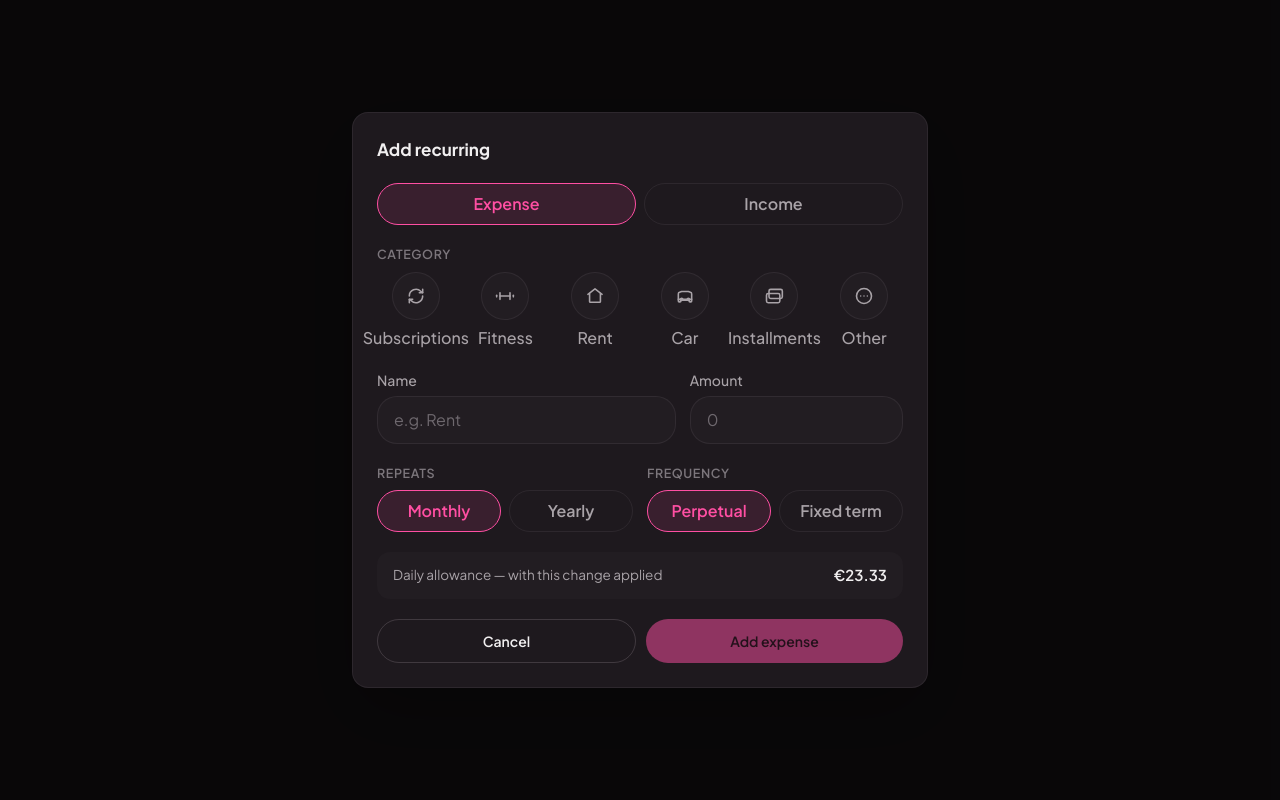
Test: AddRecurringModal › disables Confirm until a name and a positive amount are both set
The width and height of the screenshot is (1280, 800).
Expected: the button "Add expense" is disabled, [646,619,903,663]
Type "Rent" into the field labelled "Name".
click(526, 420); type("Rent")  # box [377,396,676,444]
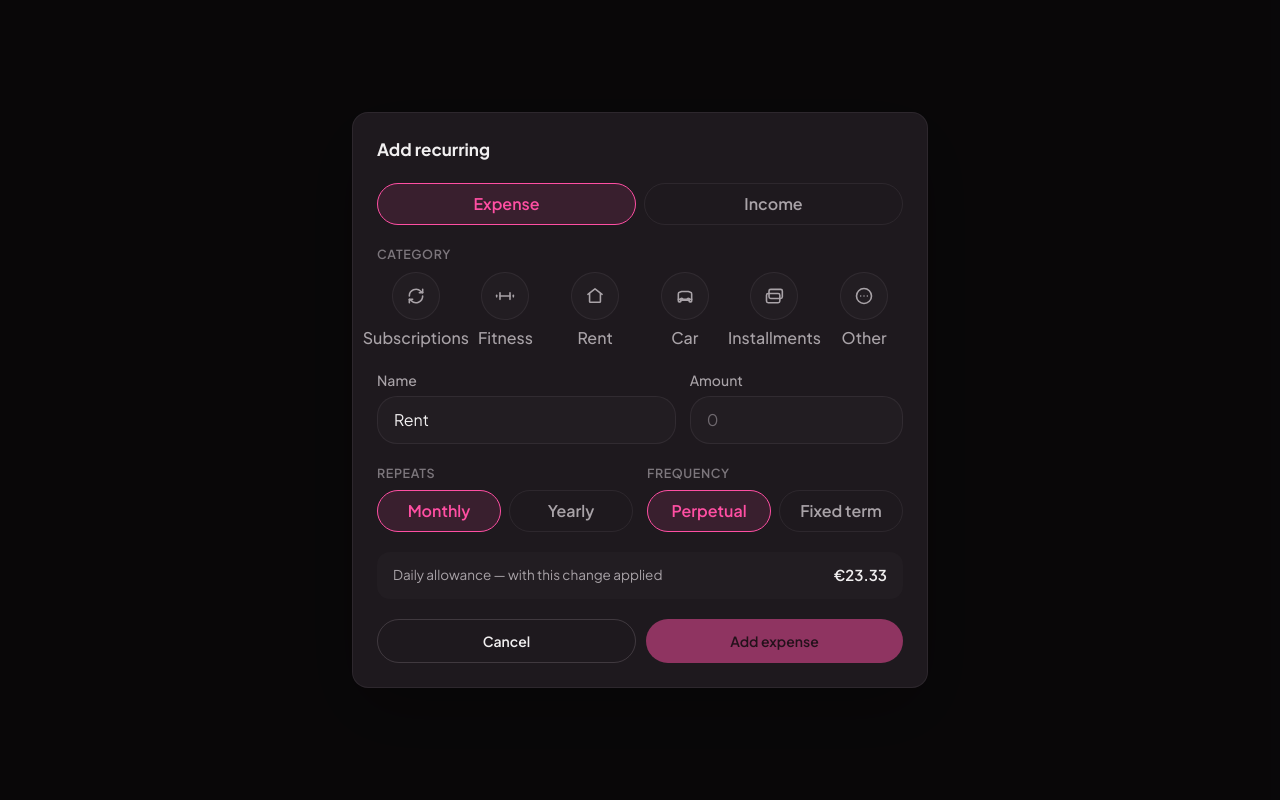
Expected: the button "Add expense" is disabled, [646,619,903,663]
Type "950" into the field labelled "Amount".
click(796, 420); type("950")  # box [690,396,903,444]
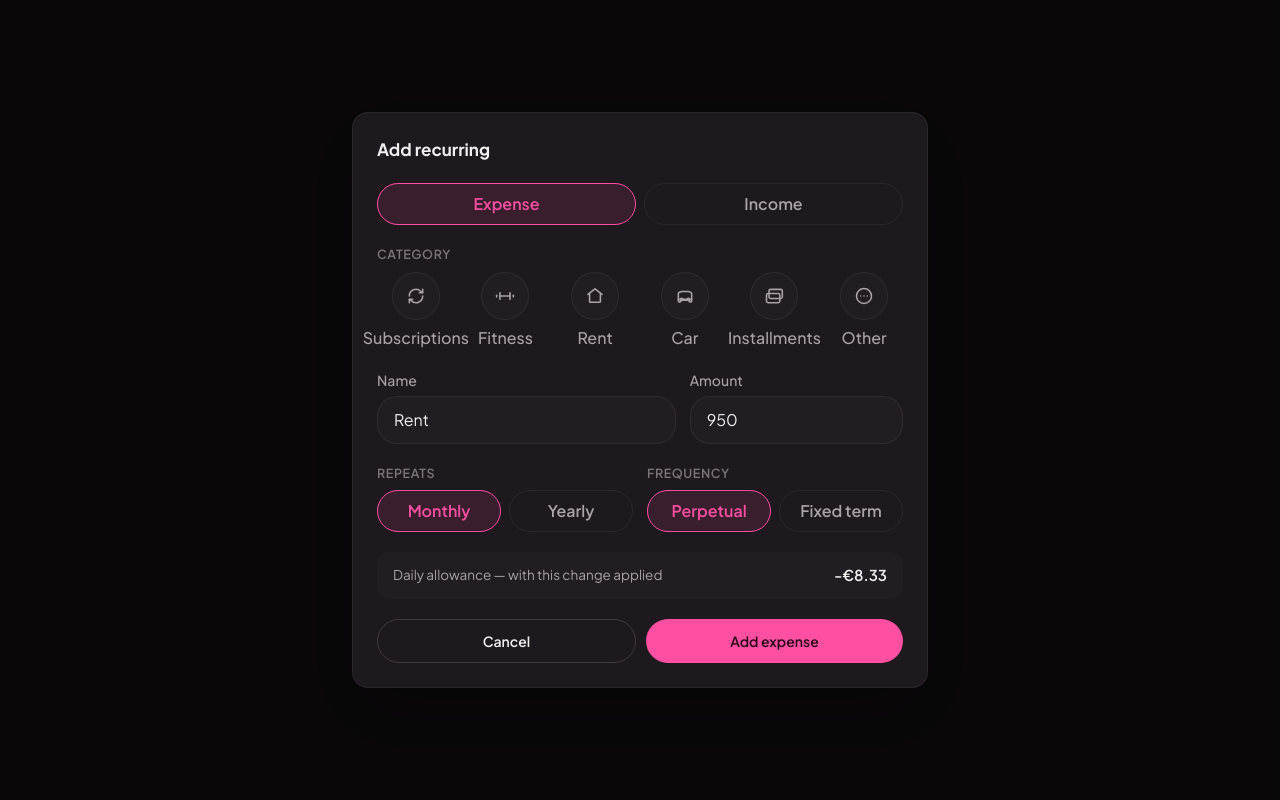
Expected: the button "Add expense" is enabled, [646,619,903,663]
